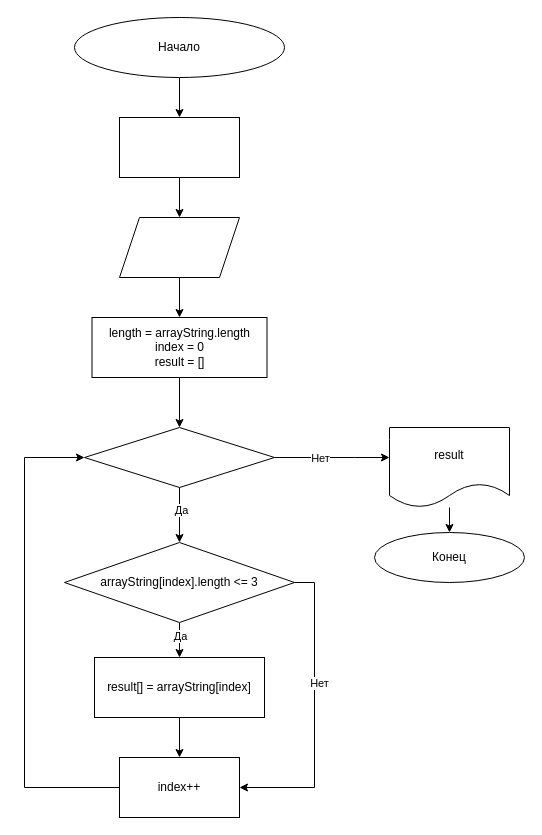
The diagram is 542 pixels wide and 835 high, and some of its shapes have lost their labels. The centre of each missing label's shape, as x and y in pixels:
"arrayString" belongs at [179,247].
"index < length" belongs at [179,457].
"string[] arrayString" belongs at [179,147].
